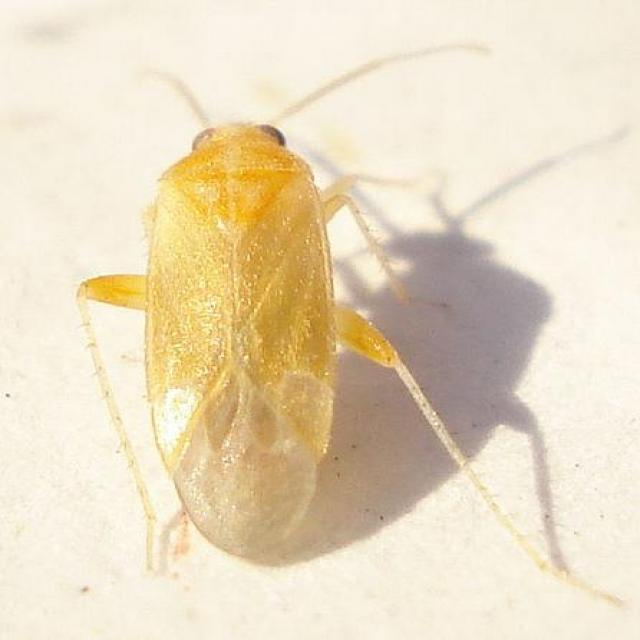Miridae-Adult-: (68, 46, 574, 580)
